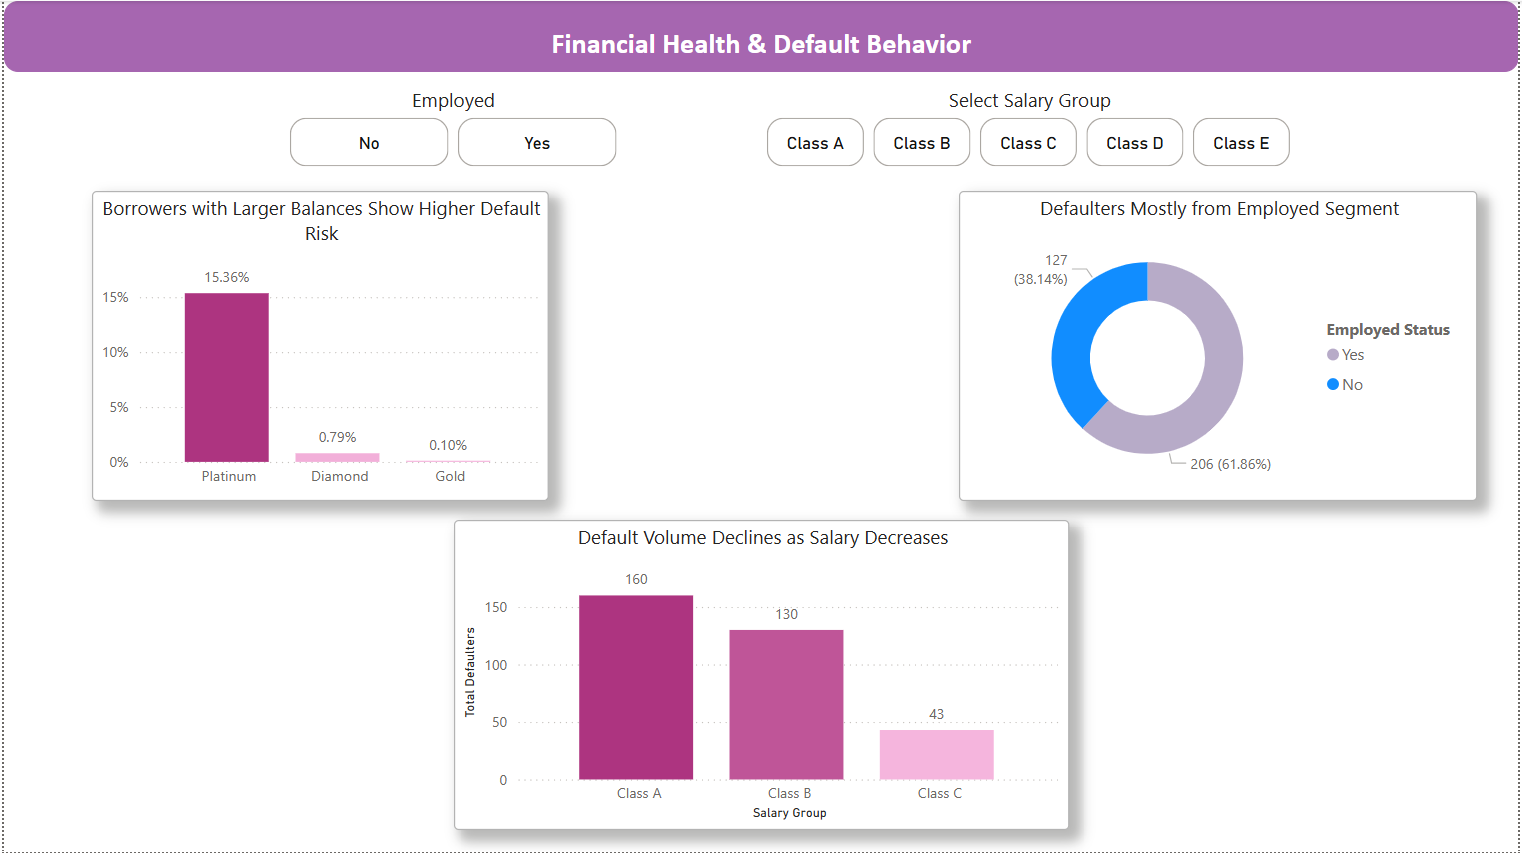

The page's visual inventory and layout, read from the dashboard file:
{"tool":"powerbi","page":{"name":"Financial Health & Default Behavior","canvas":[1280,720],"ordinal":2},"visuals":[{"type":"textbox","box":[0,0,1280,59.7],"z":1000},{"type":"advancedSlicerVisual","title":"Employed","fields":{"Values":["f_Default_Fin.Employed Status"]},"box":[236.8,73.1,286.4,73.1],"z":2000},{"type":"donutChart","title":"Defaulters Mostly from Employed Segment","fields":{"Category":["f_Default_Fin.Employed Status"],"Y":["Measures_table.m_Total Defaulters"]},"box":[806.7,160.8,438.4,261.6],"z":3000},{"type":"columnChart","title":"Borrowers with Larger Balances Show Higher Default Risk","fields":{"Category":["f_Default_Fin.Balance Group"],"Y":["Measures_table.m_% of Defaulters"]},"box":[74.5,160.8,385.8,261.6],"z":4000},{"type":"clusteredColumnChart","title":"Default Volume Declines as Salary Decreases","fields":{"Category":["f_Default_Fin.Salary Group"],"Y":["Measures_table.Total Defaulters"]},"box":[380,438.4,520.3,261.6],"z":5000},{"type":"advancedSlicerVisual","title":"Select Salary Group","fields":{"Values":["f_Default_Fin.Salary Group"]},"box":[640.1,73.1,454.5,73.1],"z":7000}]}

Visuals, with their boxes in screenshot pixels (x1, y1, x2, y2), scaled from the page's 1280x720 canvas onto the 1522x853 screenshot:
textbox: left=0, top=0, right=1521, bottom=71
"Employed" advancedSlicerVisual: left=282, top=87, right=622, bottom=173
"Defaulters Mostly from Employed Segment" donutChart: left=959, top=191, right=1481, bottom=500
"Borrowers with Larger Balances Show Higher Default Risk" columnChart: left=89, top=191, right=547, bottom=500
"Default Volume Declines as Salary Decreases" clusteredColumnChart: left=452, top=519, right=1071, bottom=829
"Select Salary Group" advancedSlicerVisual: left=761, top=87, right=1302, bottom=173
